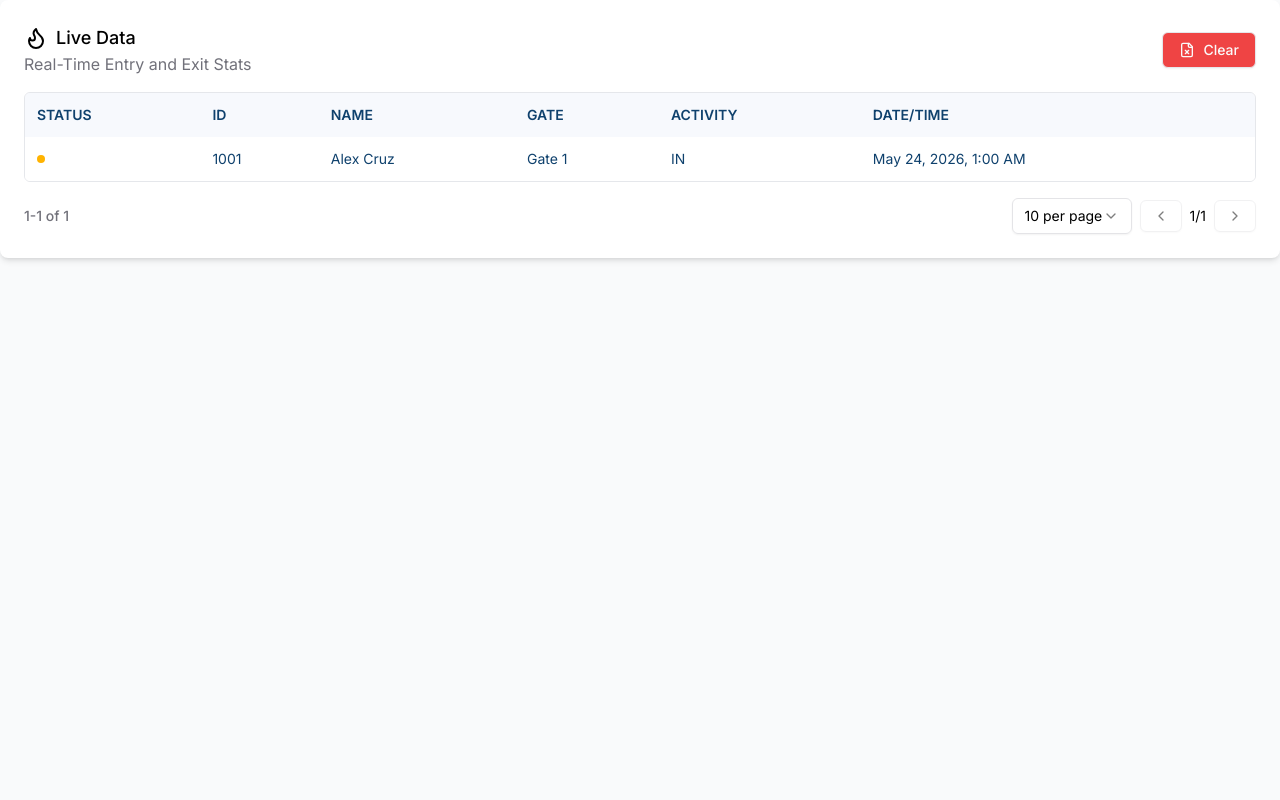
Scenario: LiveDataTable › shows allowed-with-remarks and remarks section in DASMA mode
Click the text "Alex Cruz" at (363, 158), box [319,137,515,181]
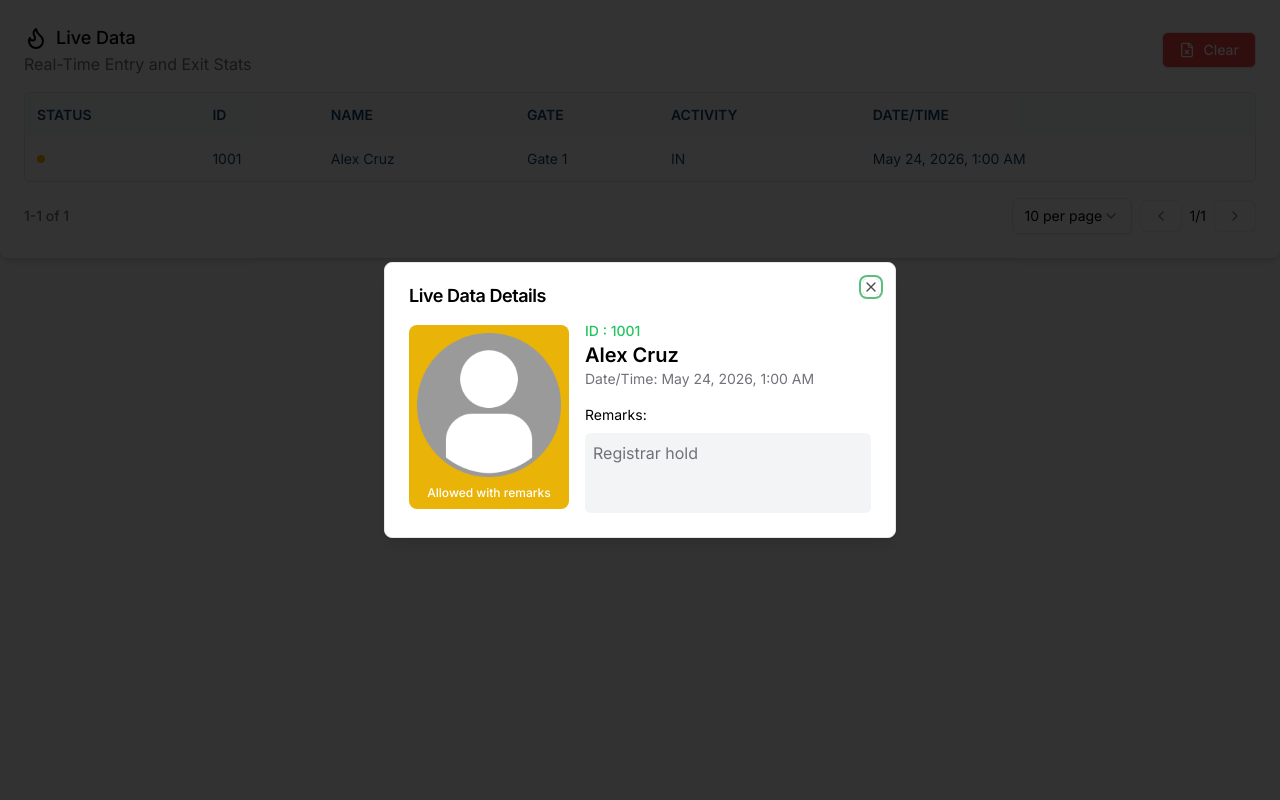
Now the text "Allowed with remarks" is shown, box [417,485,561,501]
Now the text "Remarks:" is shown, box [585,406,647,423]
